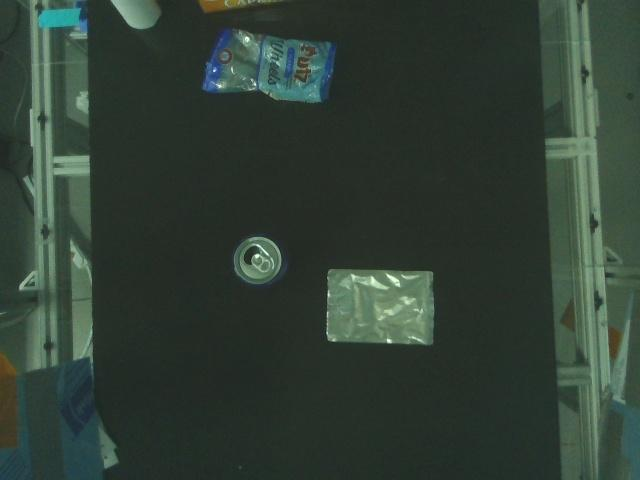cardboard: (107, 0, 163, 31), (194, 0, 290, 17)
metal: (233, 236, 283, 285)
plastic: (200, 28, 336, 104), (326, 269, 436, 345)
